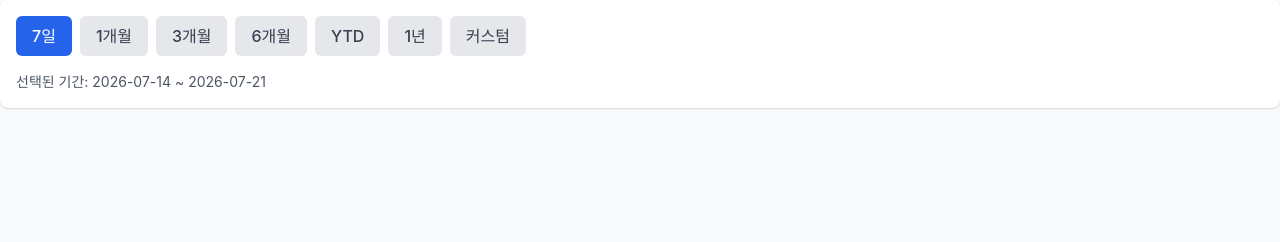
DateRangeSelector › 날짜를 입력하지 않고 적용 버튼을 클릭하면 에러 메시지를 표시한다
// 커스텀 버튼 클릭
Click the button "커스텀": (488, 36) [450, 16, 526, 56]
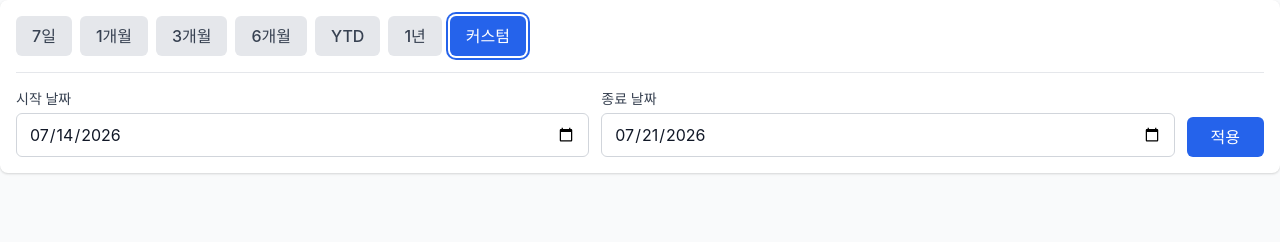
Clear the date field labelled "시작 날짜": (303, 135) [16, 113, 589, 157]
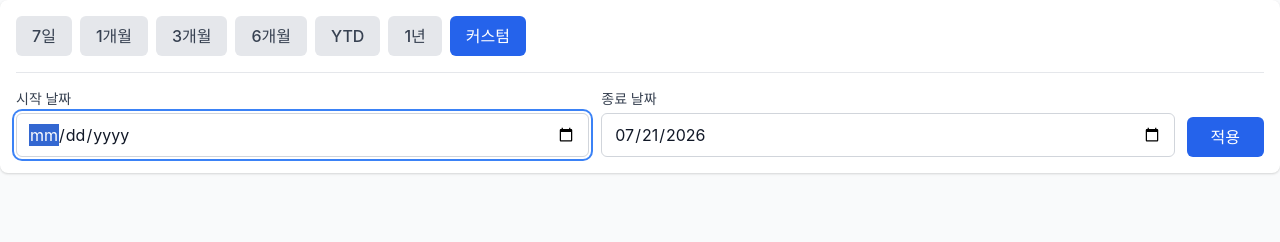
Clear the date field labelled "종료 날짜": (888, 135) [601, 113, 1175, 157]
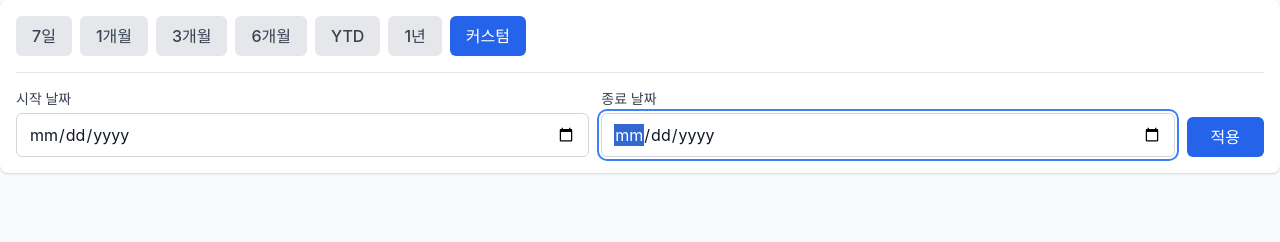
// 적용 버튼 클릭
Click the button "적용": (1225, 137) [1187, 117, 1264, 157]
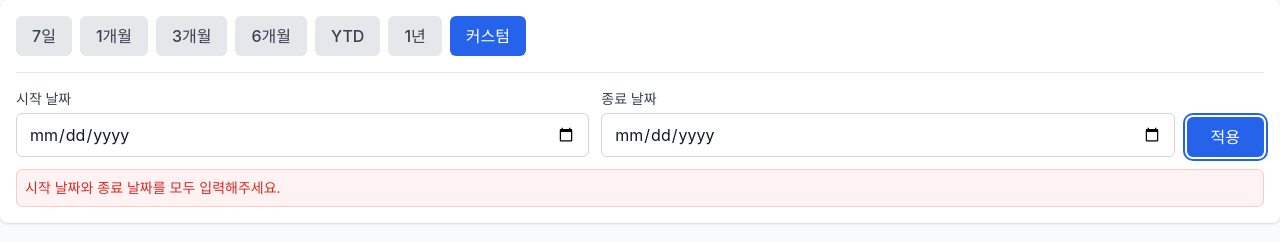
expect the text "시작 날짜와 종료 날짜를 모두 입력해주세요." is shown: met, box [25, 179, 281, 196]
